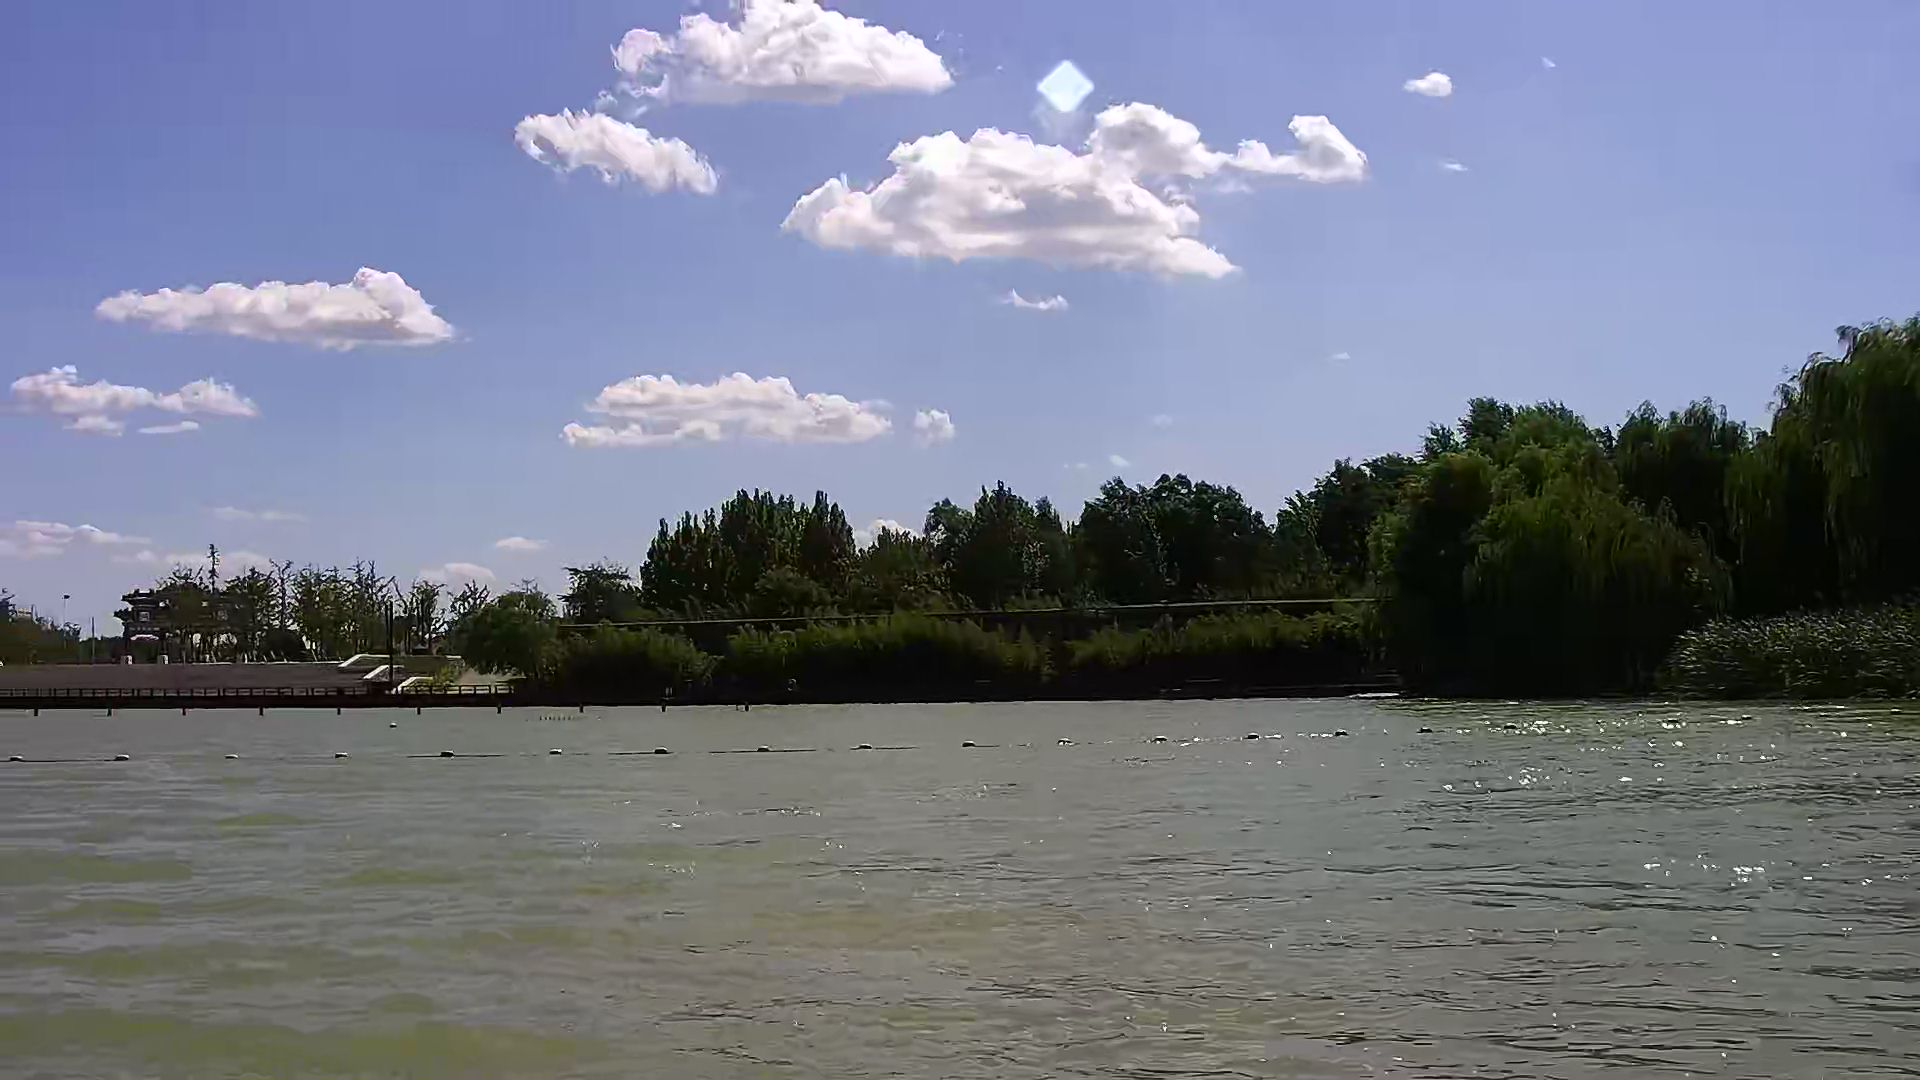ball: (103, 745, 137, 767), (435, 738, 463, 764), (651, 737, 674, 764), (752, 738, 778, 760)
harbor: (1, 655, 501, 704)
